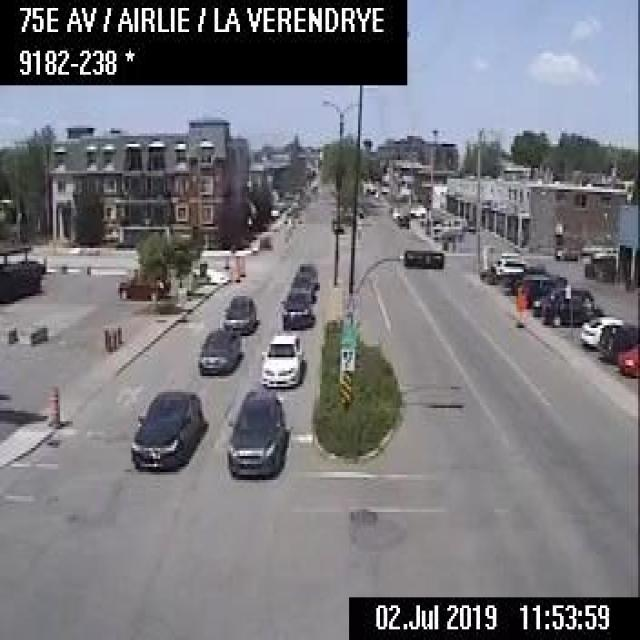construction: (44, 381, 60, 427), (511, 283, 527, 328), (231, 257, 240, 282), (237, 252, 244, 277), (222, 251, 228, 266)
vehicle: (129, 384, 206, 469), (225, 386, 288, 477), (258, 332, 304, 388), (196, 322, 240, 371), (541, 291, 600, 324), (596, 321, 638, 363), (577, 311, 625, 345), (516, 273, 568, 302), (276, 287, 312, 328), (116, 274, 168, 300), (223, 290, 256, 330), (616, 339, 638, 377), (290, 260, 318, 288), (530, 287, 556, 315), (493, 252, 526, 273), (554, 241, 579, 260), (406, 201, 424, 216), (394, 213, 410, 227)
